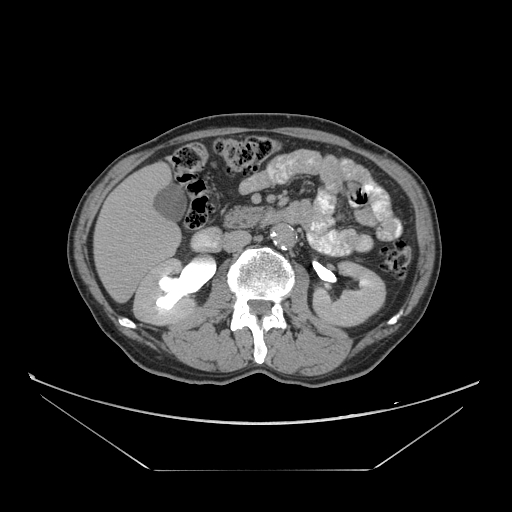left_kidney: (132, 254, 198, 324)
right_kidney: (305, 256, 388, 327)
